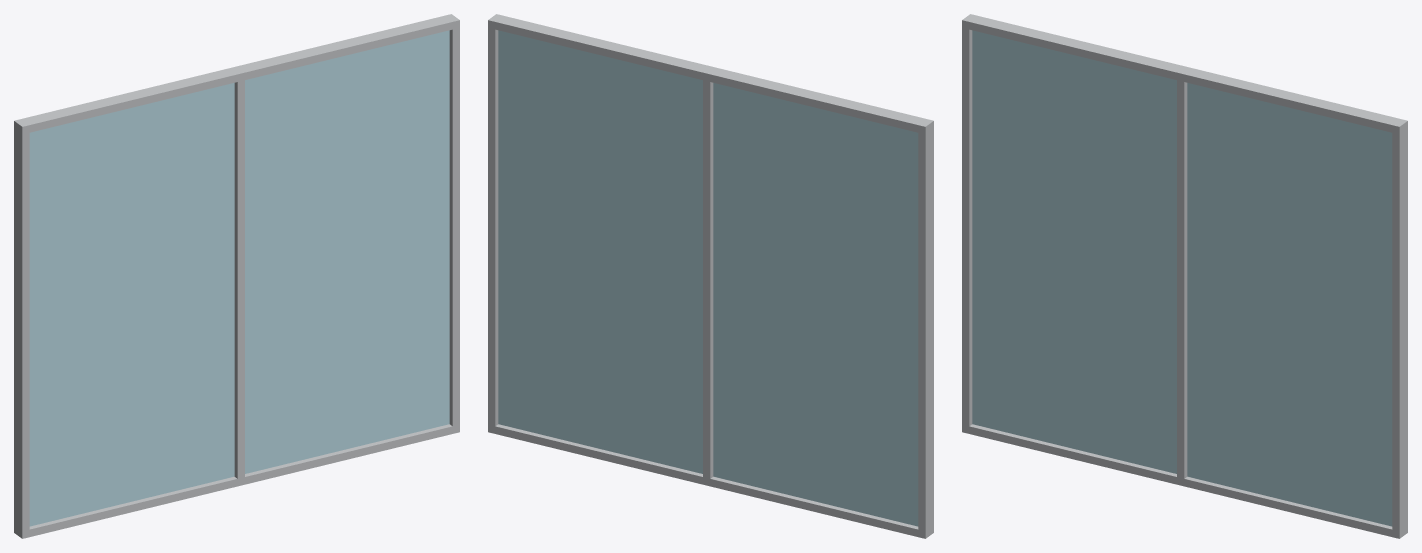
Rendered from opening.window.fixed_3000x2700.glb.
The picture shows the model from 3 angles, left to right: view 1: azimuth 30°, elevation 25°; view 2: azimuth 150°, elevation 25°; view 3: azimuth 330°, elevation 25°; orthographic projection.
Visible parts, largest first — view 1: glazing__glass, frame__aluminium; view 2: glazing__glass, frame__aluminium; view 3: glazing__glass, frame__aluminium.
Boxes of the visible parts, <box> form: glazing__glass: <box>29,30,449,526</box>; frame__aluminium: <box>14,14,459,538</box>; glazing__glass: <box>498,30,918,526</box>; frame__aluminium: <box>488,14,933,538</box>; glazing__glass: <box>972,30,1392,526</box>; frame__aluminium: <box>962,14,1407,538</box>.
Size of the model in its own units: 3 by 2.7 by 0.1.
